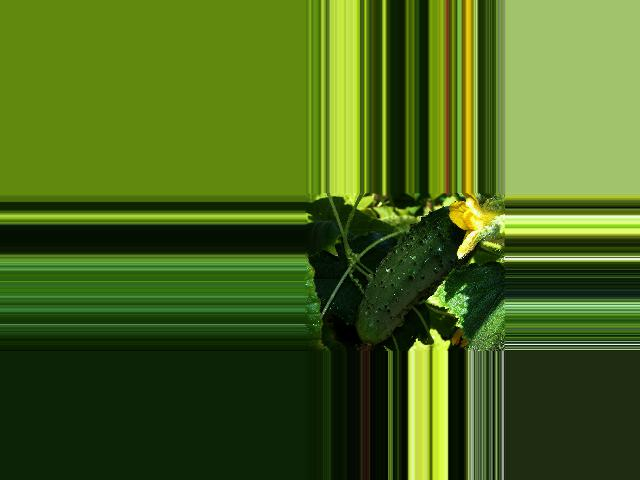cucumber: (354, 206, 479, 352)
